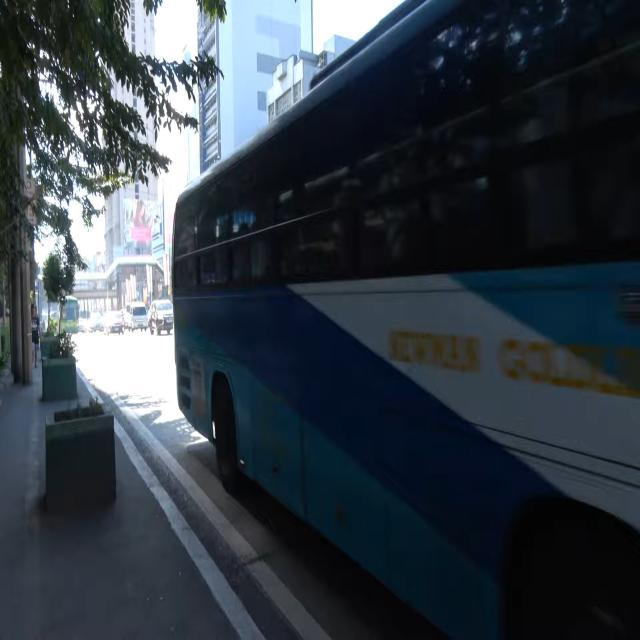bus: (171, 0, 640, 640), (56, 294, 80, 338)
car: (150, 299, 172, 336), (108, 312, 124, 336)
